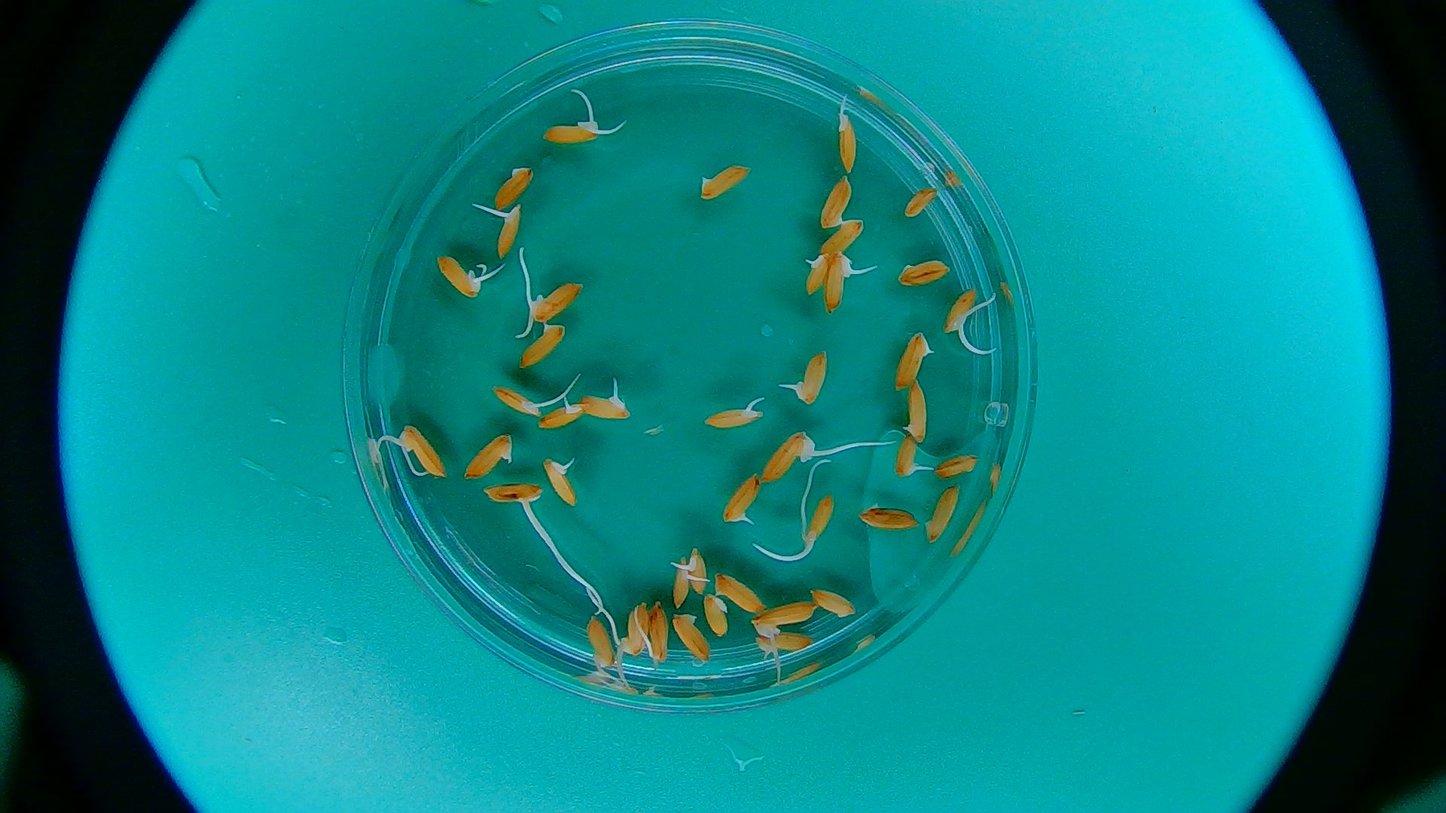no: (855, 495, 919, 538), (893, 328, 935, 388), (462, 433, 514, 480), (922, 486, 962, 546), (521, 321, 566, 373), (699, 163, 749, 202), (671, 611, 708, 663), (719, 573, 770, 610), (811, 586, 860, 622), (817, 177, 851, 227), (903, 388, 933, 443), (494, 164, 533, 206), (896, 262, 952, 290), (932, 450, 980, 482), (700, 593, 731, 641), (825, 220, 867, 254), (901, 184, 938, 222)
yes: (760, 428, 822, 481), (401, 425, 447, 480), (750, 598, 819, 631), (433, 251, 479, 300), (721, 475, 759, 530), (528, 285, 585, 321), (535, 393, 590, 430), (797, 494, 834, 548), (543, 455, 582, 504), (581, 617, 616, 671), (543, 117, 601, 148), (698, 403, 762, 431), (644, 598, 670, 666), (832, 112, 859, 175), (945, 286, 979, 336), (752, 632, 812, 660), (796, 353, 828, 405), (825, 252, 856, 305), (482, 481, 545, 507), (619, 603, 647, 661), (495, 385, 545, 416), (584, 388, 628, 423), (802, 242, 828, 299), (895, 432, 923, 483), (497, 205, 520, 261), (687, 546, 713, 591), (671, 558, 692, 609)
